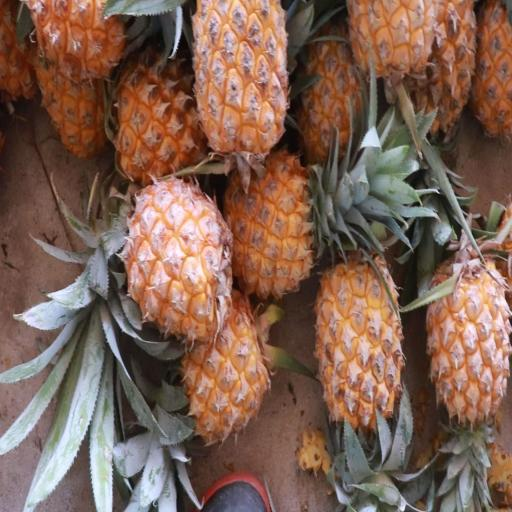Pineapple - v8 v1: (314, 246, 406, 456), (122, 175, 236, 344), (425, 229, 512, 429), (175, 272, 273, 446), (222, 146, 323, 310), (193, 4, 293, 154), (111, 43, 205, 191), (460, 0, 512, 135)
